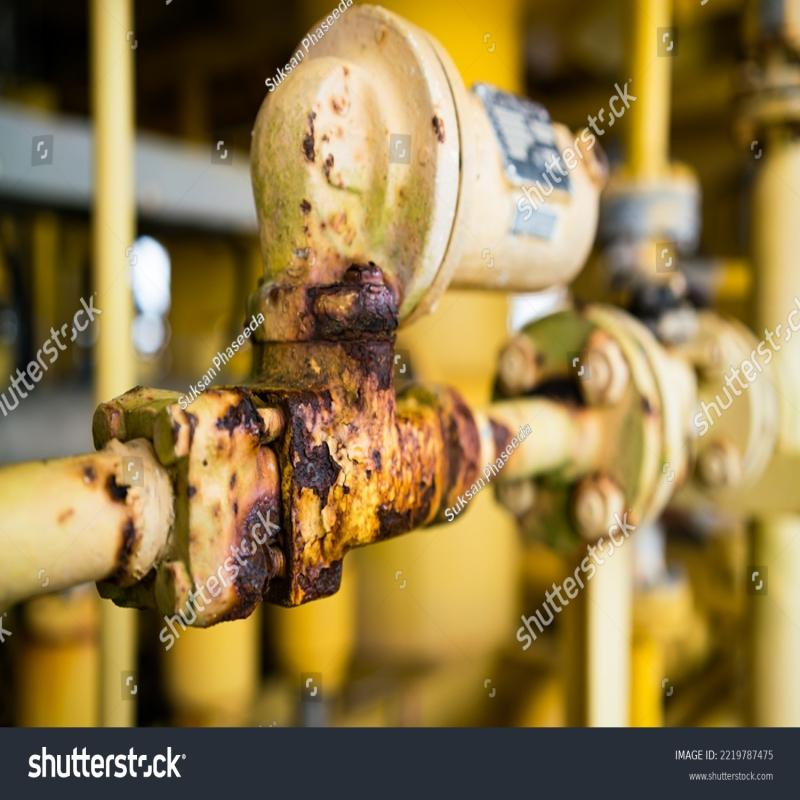corrosion: (199, 336, 445, 607)
